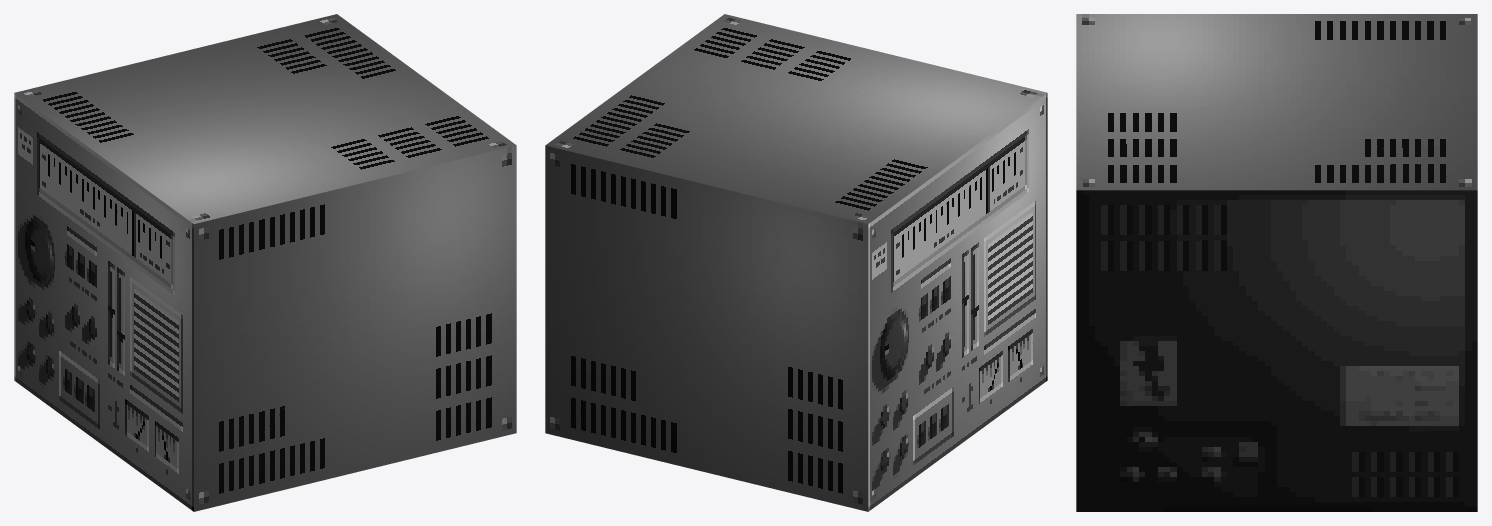
The model's file is primary_055.glb.
The picture shows the model from 3 angles, left to right: view 1: azimuth 30°, elevation 25°; view 2: azimuth 150°, elevation 25°; view 3: azimuth 270°, elevation 25°; orthographic projection. The views are drawn at different scales.
Visible parts, largest first — view 1: Object; view 2: Object; view 3: Object.
Boxes of the visible parts, <box> form: Object: <box>14,14,516,511</box>; Object: <box>545,14,1047,511</box>; Object: <box>1076,14,1477,511</box>.
Size of the model in its own units: 0.6725 by 0.5725 by 0.6476.
Materials: 6 (6 with a texture image).
